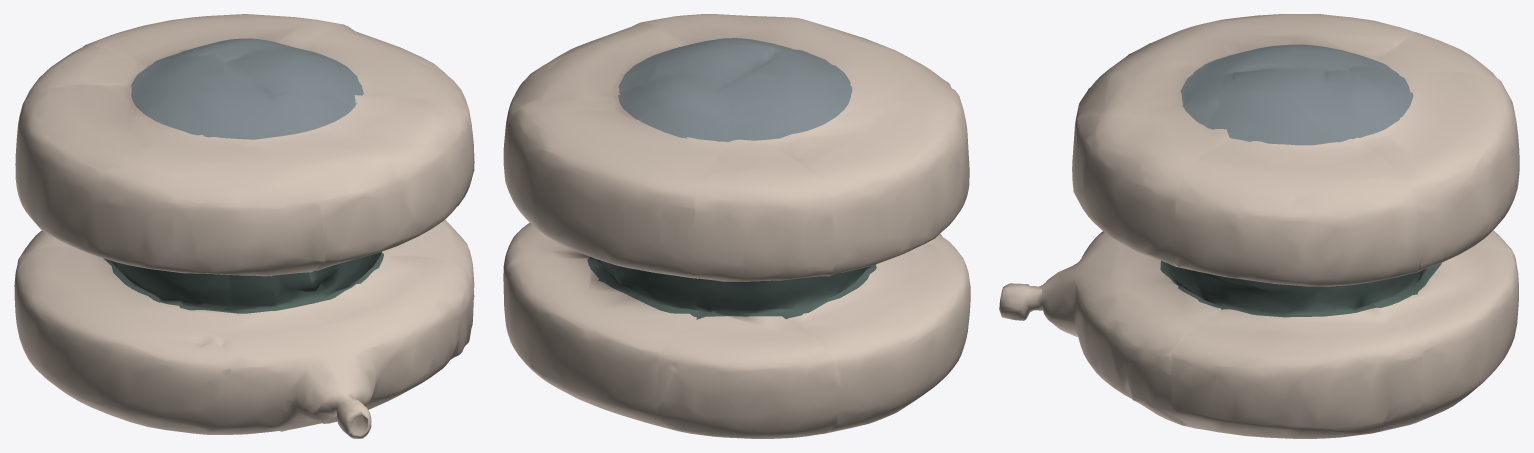
File: drone.glb
The picture shows the model from 3 angles, left to right: view 1: azimuth 30°, elevation 25°; view 2: azimuth 150°, elevation 25°; view 3: azimuth 270°, elevation 25°; orthographic projection.
Parts seen in each view (by area): view 1: drone; view 2: drone; view 3: drone.
Part boxes in pixels (<box>): drone: <box>14,14,474,438</box>; drone: <box>503,14,970,438</box>; drone: <box>999,14,1519,438</box>.
Size of the model in its own units: 1.4 by 1.11 by 1.56.
